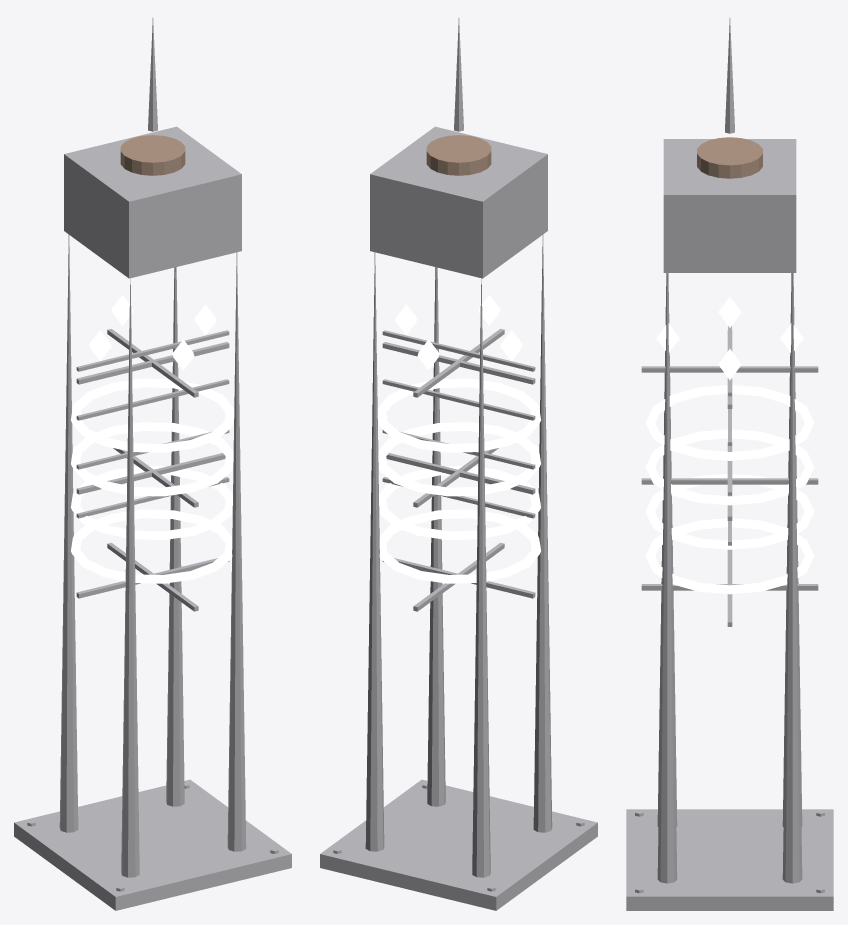
Rendered from derrick_legendary.glb.
3 views of the same model, side by side, from view 1: azimuth 30°, elevation 25°; view 2: azimuth 150°, elevation 25°; view 3: azimuth 270°, elevation 25° (orthographic).
Parts seen in each view (by area): view 1: derrick; view 2: derrick; view 3: derrick.
Part boxes in pixels (left/top/right/bottom): derrick: left=14, top=18, right=291, bottom=910; derrick: left=320, top=18, right=597, bottom=910; derrick: left=626, top=18, right=833, bottom=910.
Bounding box in the file's own units: 2.11 × 9.6 × 2.11.
